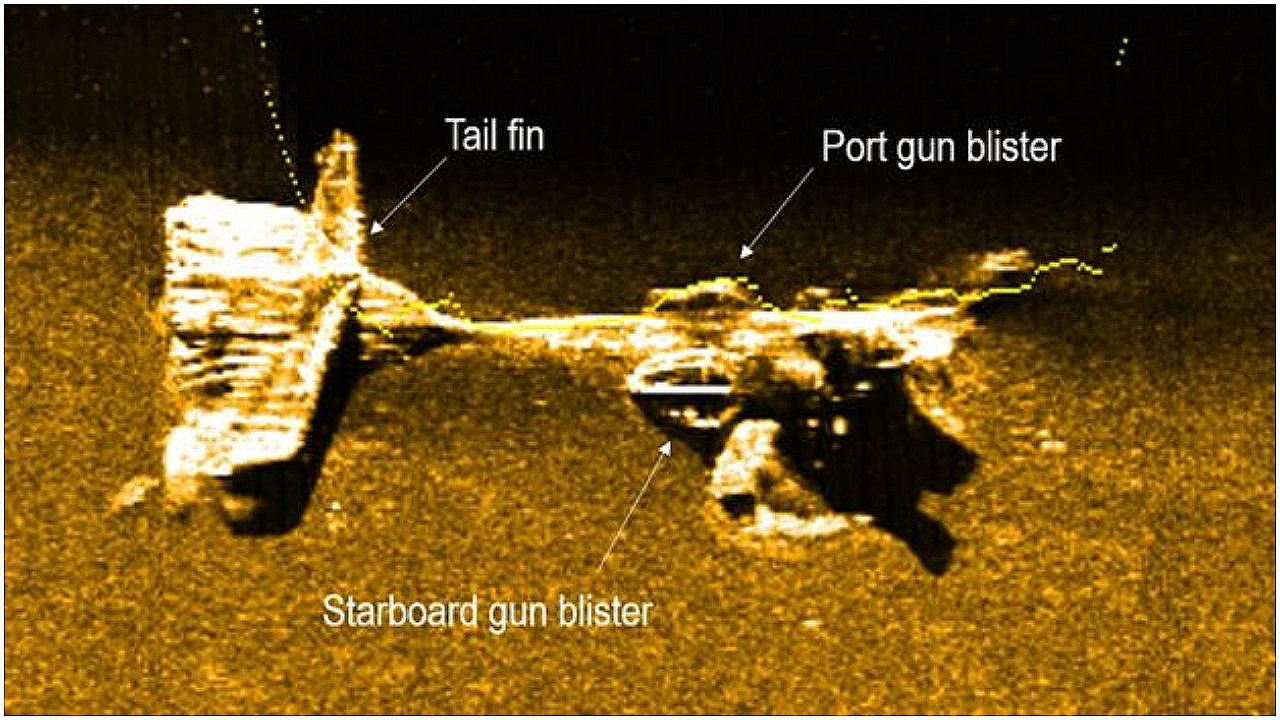aircraft: (150, 125, 1039, 567)
